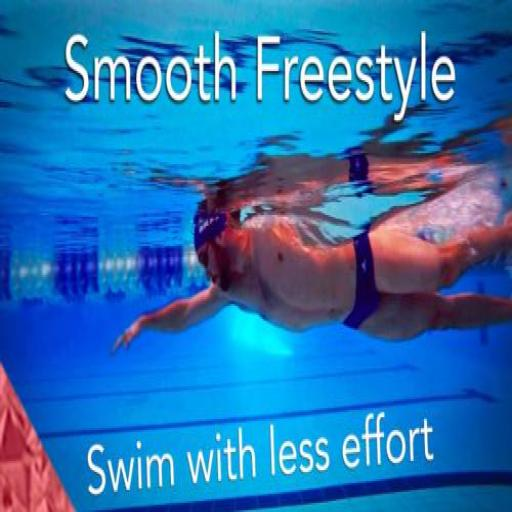swimming: (111, 157, 510, 355)
